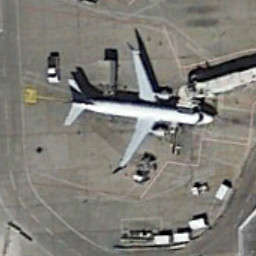Airplane: (62, 40, 218, 181)
